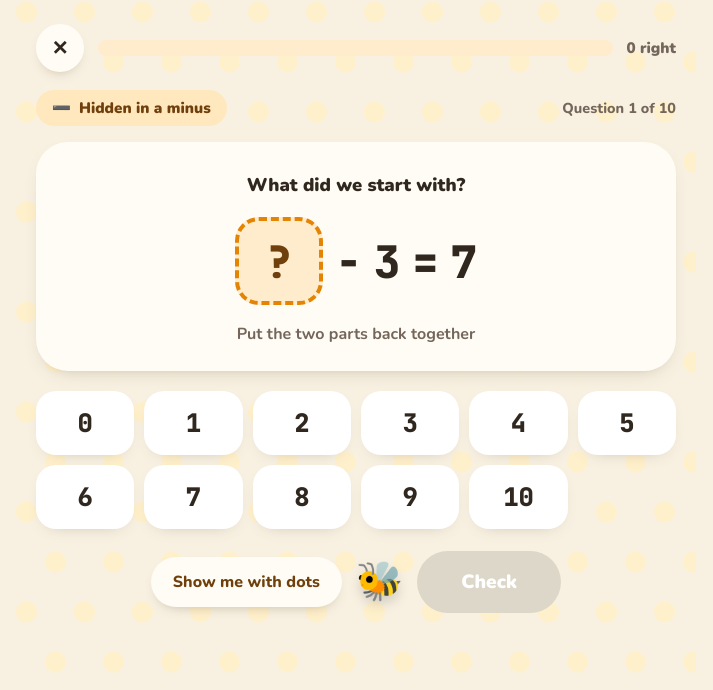
it: Number Lab · a stage play-through › asks a missing-number question and accepts the answer from the 0–10 tile strip
Expected: the element named "Numbers 0 to 10" is shown, [36,391,676,529]
Expected: the text named "the hidden number" reads "?", [266,232,293,290]
Click the button "10": (518, 497) [469,465,568,529]
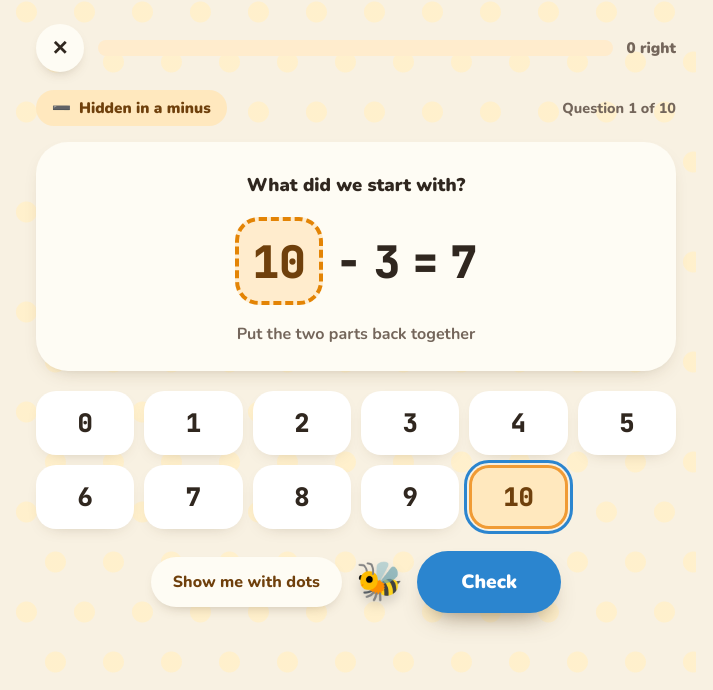
Click the button "Check": (489, 582) [417,551,561,613]
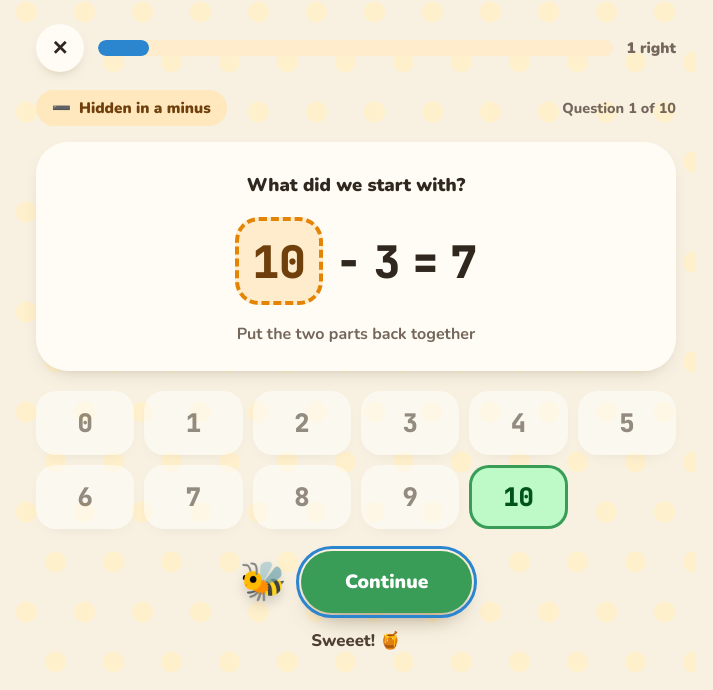
Expected: the message reads "Sweeet! 🍯", [311,629,401,652]
